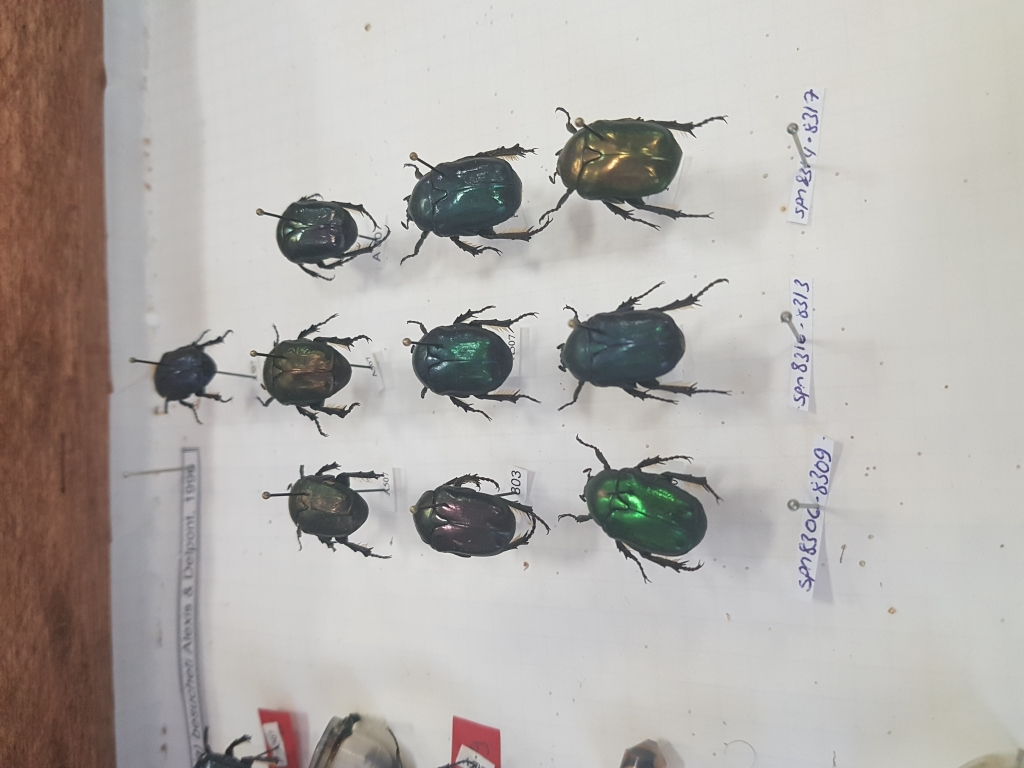Protaetia_besucheti: (552, 427, 734, 581)
